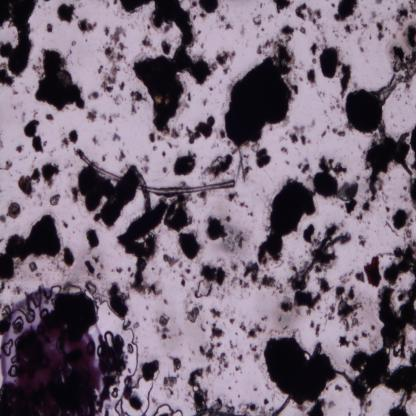Air bubble: (95, 296, 154, 413), (154, 401, 184, 415), (114, 397, 130, 415)
Background material: (119, 0, 216, 135), (224, 26, 298, 150), (262, 334, 348, 414), (255, 177, 314, 266), (118, 190, 164, 296), (288, 219, 352, 293), (348, 347, 416, 415), (72, 163, 145, 222), (0, 216, 61, 283), (364, 128, 411, 205), (33, 45, 85, 112), (0, 0, 39, 89), (344, 76, 400, 132), (375, 286, 416, 352), (314, 155, 360, 213), (199, 308, 235, 374), (101, 24, 126, 104), (205, 216, 252, 254), (318, 43, 353, 94), (383, 238, 416, 284), (332, 284, 362, 332), (194, 263, 230, 301), (276, 288, 324, 316), (388, 44, 416, 84), (242, 262, 281, 290), (297, 4, 327, 40), (166, 195, 194, 233), (205, 397, 259, 415), (184, 116, 216, 146), (188, 366, 207, 416), (107, 282, 132, 319), (386, 206, 414, 237), (356, 256, 384, 287), (177, 232, 206, 260), (201, 154, 233, 179), (24, 118, 47, 152), (19, 166, 40, 196), (172, 151, 198, 175), (333, 0, 361, 21), (251, 143, 272, 170), (40, 161, 61, 187), (56, 0, 77, 26), (154, 313, 172, 342), (130, 89, 146, 117), (140, 358, 160, 380), (61, 243, 76, 272), (407, 122, 416, 169), (393, 4, 410, 28), (237, 152, 250, 183), (216, 52, 236, 72), (162, 251, 184, 269), (402, 21, 416, 49), (228, 190, 248, 209), (184, 304, 203, 323), (290, 125, 309, 144), (163, 375, 178, 399), (85, 227, 100, 251), (58, 128, 78, 146), (77, 17, 99, 33), (196, 1, 221, 15), (246, 320, 265, 338), (84, 255, 100, 276), (317, 275, 333, 294), (328, 94, 344, 113), (217, 12, 232, 32), (407, 176, 416, 207), (273, 0, 294, 13), (168, 354, 183, 372), (178, 267, 192, 286), (139, 154, 151, 175), (358, 25, 367, 52), (305, 68, 317, 88), (159, 39, 172, 57), (339, 336, 362, 346), (99, 112, 117, 124), (296, 161, 311, 175), (249, 344, 261, 361), (86, 106, 97, 124), (8, 202, 21, 217), (142, 38, 158, 50), (309, 320, 321, 336), (251, 11, 262, 28), (48, 193, 62, 206), (235, 320, 248, 334), (116, 147, 128, 162), (2, 158, 14, 172), (147, 130, 158, 145), (376, 21, 384, 41), (332, 126, 346, 137), (86, 92, 100, 103), (361, 200, 372, 213), (345, 23, 359, 33), (310, 44, 317, 64), (279, 144, 290, 155), (60, 218, 70, 230), (112, 130, 122, 142), (92, 134, 100, 148), (409, 0, 416, 16), (356, 235, 366, 246), (236, 354, 245, 364), (46, 23, 54, 34), (16, 145, 24, 155), (44, 115, 55, 122), (320, 130, 328, 138), (202, 98, 210, 106), (187, 92, 193, 102), (116, 266, 123, 274), (161, 150, 167, 158), (163, 165, 167, 174), (263, 398, 269, 404)
Microfibre: (79, 148, 236, 193)
Pen: (0, 284, 107, 416)
